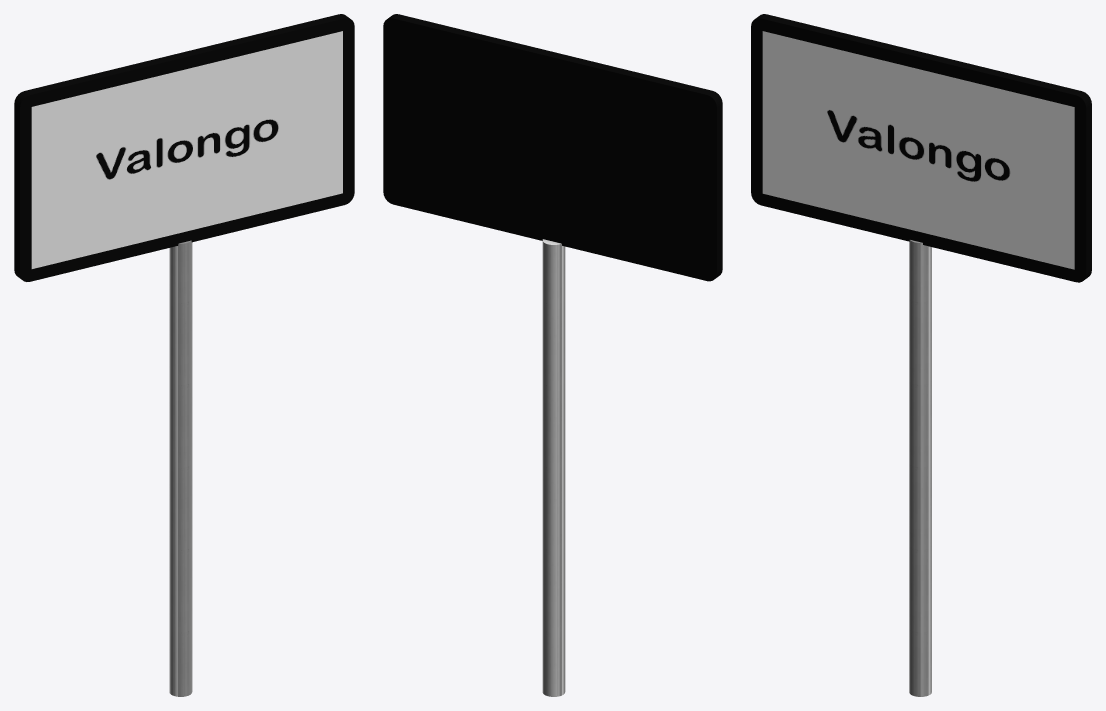
The model's file is Valongo.gltf.
3 renders of one model, left to right at view 1: azimuth 30°, elevation 25°; view 2: azimuth 150°, elevation 25°; view 3: azimuth 330°, elevation 25°, orthographic.
Parts seen in each view (by area): view 1: root; view 2: root; view 3: root.
Part boxes in pixels (x1=…): root: x1=14, y1=14, x2=354, y2=696; root: x1=383, y1=14, x2=722, y2=696; root: x1=751, y1=14, x2=1091, y2=696.
Size of the model in its own units: 0.4318 by 0.7865 by 0.0254.
4 materials, 2 textured.
